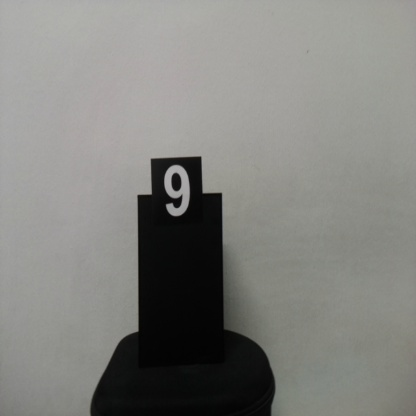id_9: (151, 158, 204, 238)
